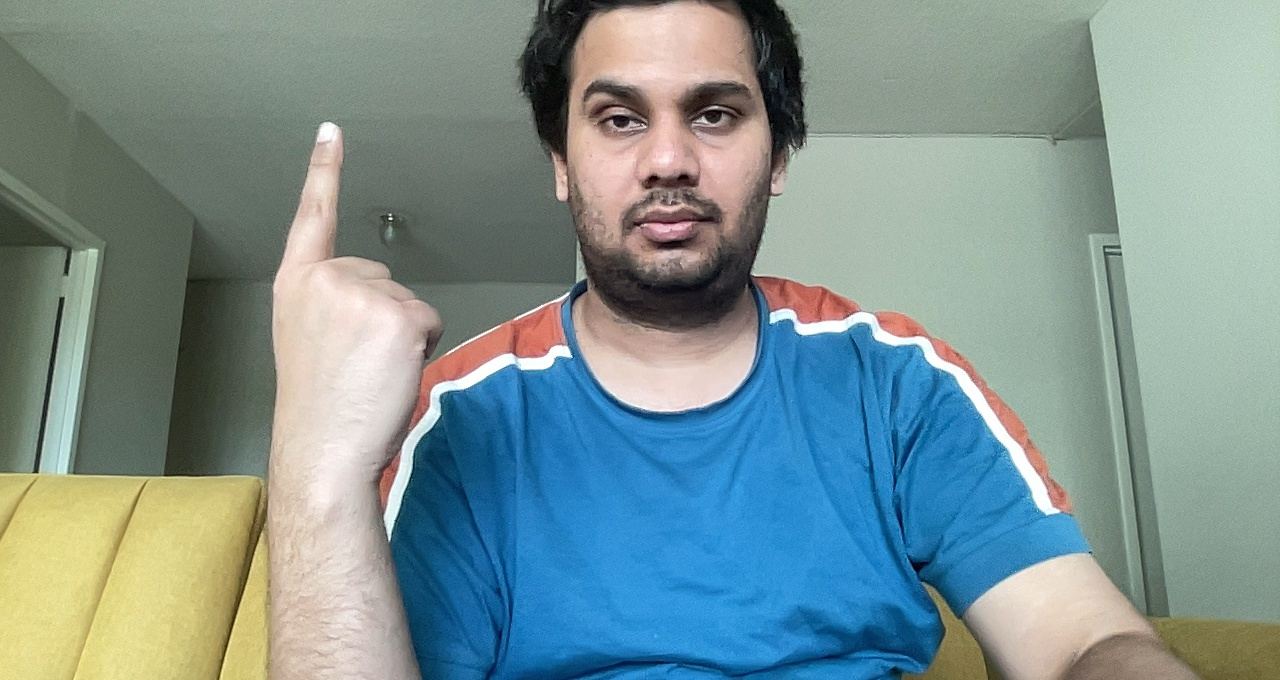fingerup: (266, 118, 451, 452)
